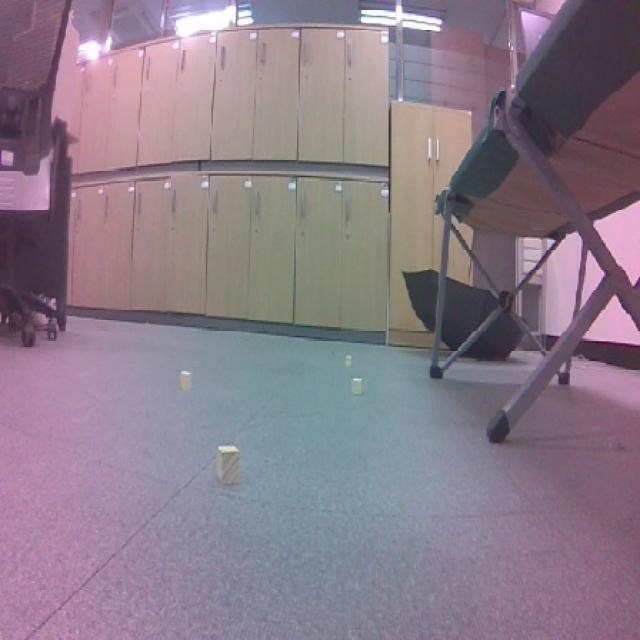obstacle: (210, 441, 252, 489)
